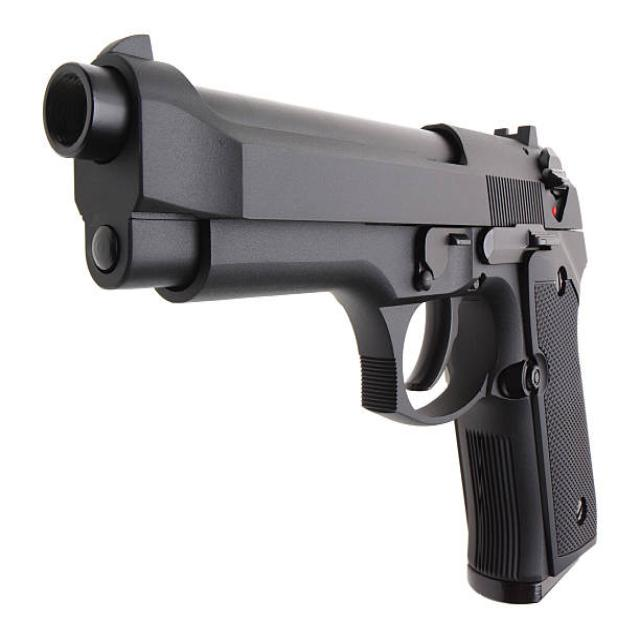pistol: (37, 27, 616, 615)
